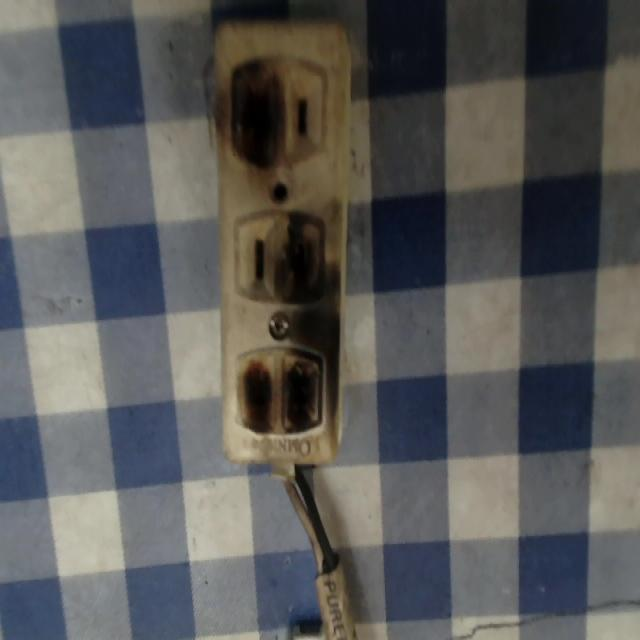-: (228, 346, 333, 446), (218, 47, 288, 177), (278, 207, 333, 316)
